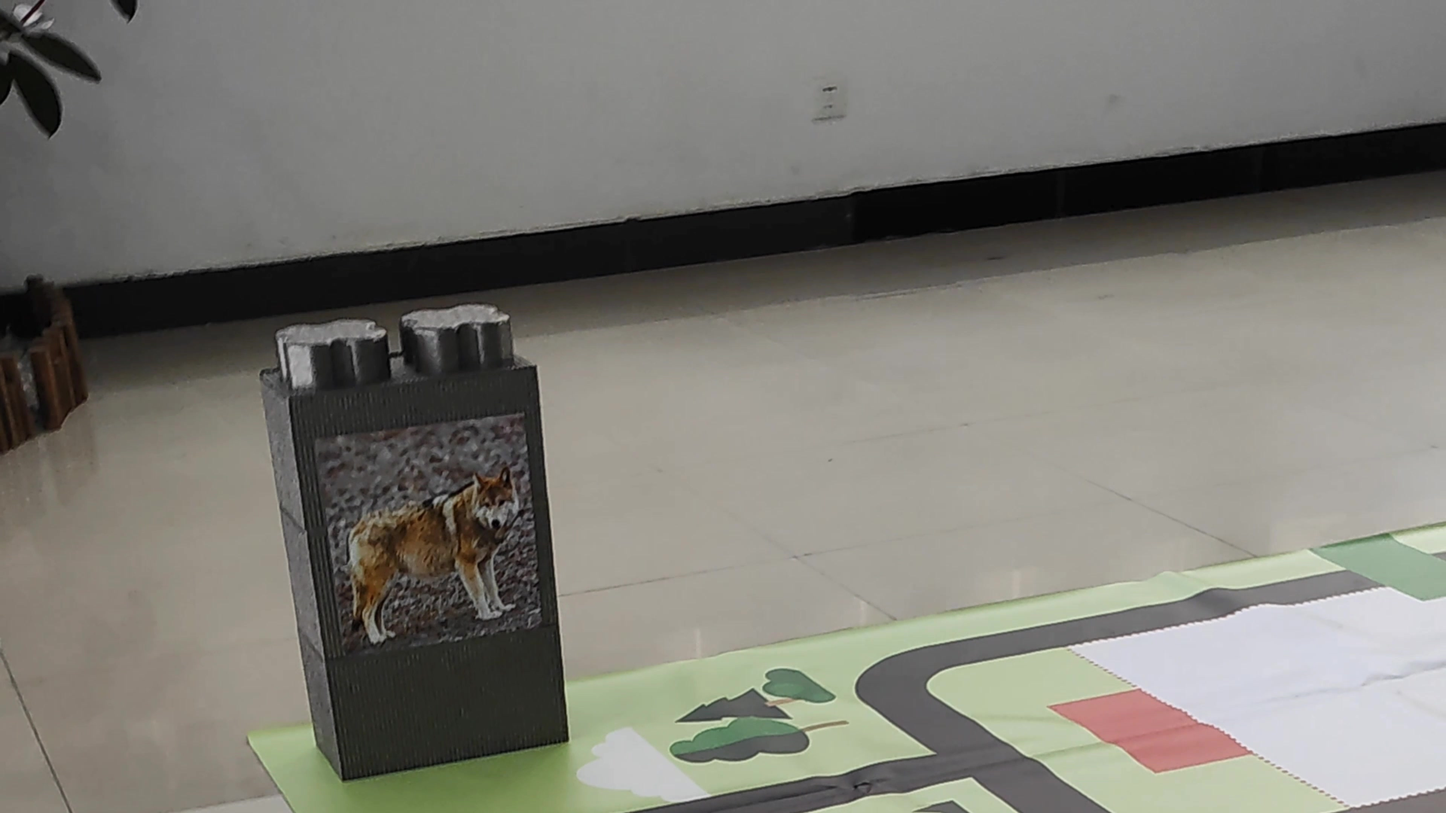wolf: (329, 422, 543, 641)
